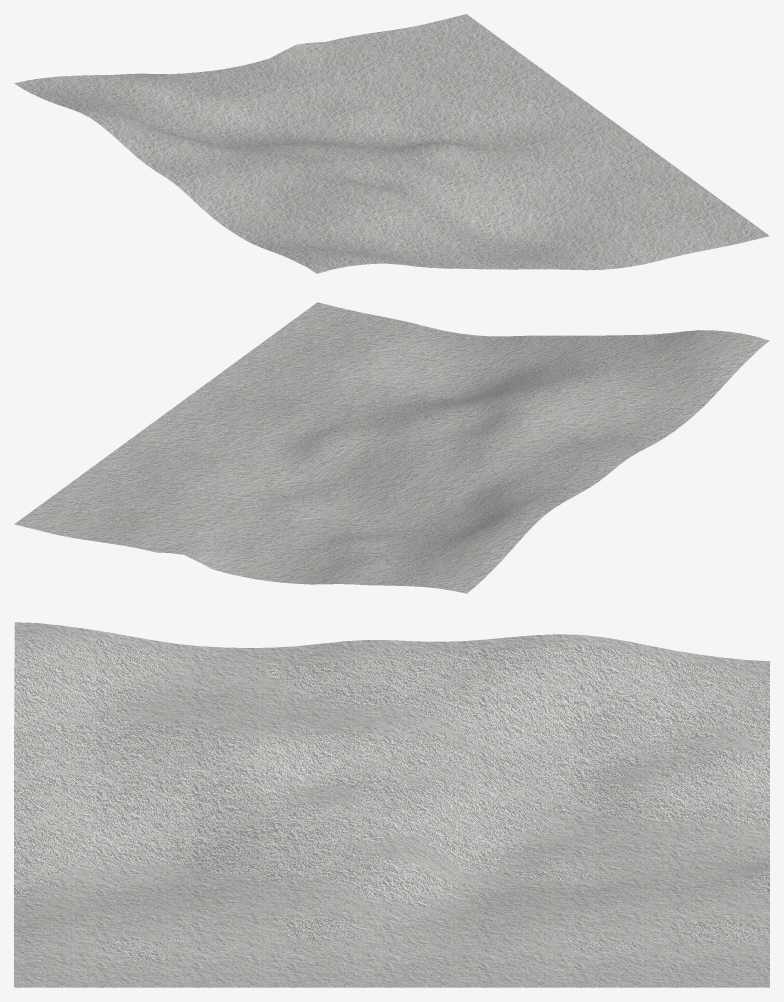
Rendered from Graveyard.glb.
3 renders of one model, top to bottom at view 1: azimuth 30°, elevation 25°; view 2: azimuth 150°, elevation 25°; view 3: azimuth 270°, elevation 25°, orthographic. The views are drawn at different scales.
Parts seen in each view (by area): view 1: Ground; view 2: Ground; view 3: Ground.
Boxes of the visible parts, x1,y1,x2,y2 form: Ground: (14,14,769,273); Ground: (14,302,769,593); Ground: (14,622,769,987).
Bounding box in the file's own units: 81 × 12.48 × 94.
1 material, 1 textured.
